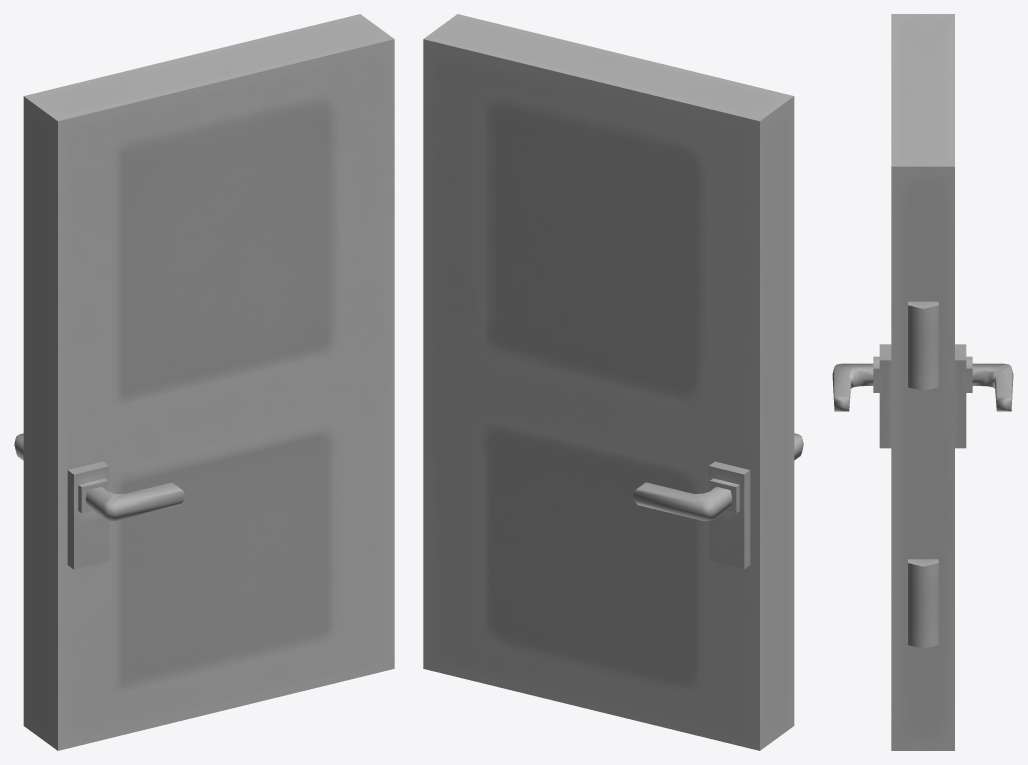
The model's file is Pfb_School_Door.fbx.
3 renders of one model, left to right at view 1: azimuth 30°, elevation 25°; view 2: azimuth 150°, elevation 25°; view 3: azimuth 270°, elevation 25°, orthographic. The views are drawn at different scales.
Parts seen in each view (by area): view 1: MAT_School_Door_01; view 2: MAT_School_Door_01; view 3: MAT_School_Door_01.
Boxes of the visible parts, x1=… form: MAT_School_Door_01: x1=14, y1=14, x2=394, y2=750; MAT_School_Door_01: x1=423, y1=14, x2=803, y2=750; MAT_School_Door_01: x1=832, y1=14, x2=1013, y2=750.
Bounding box in the file's own units: 1.08 × 1.83 × 0.5147.
1 material, 1 textured.
